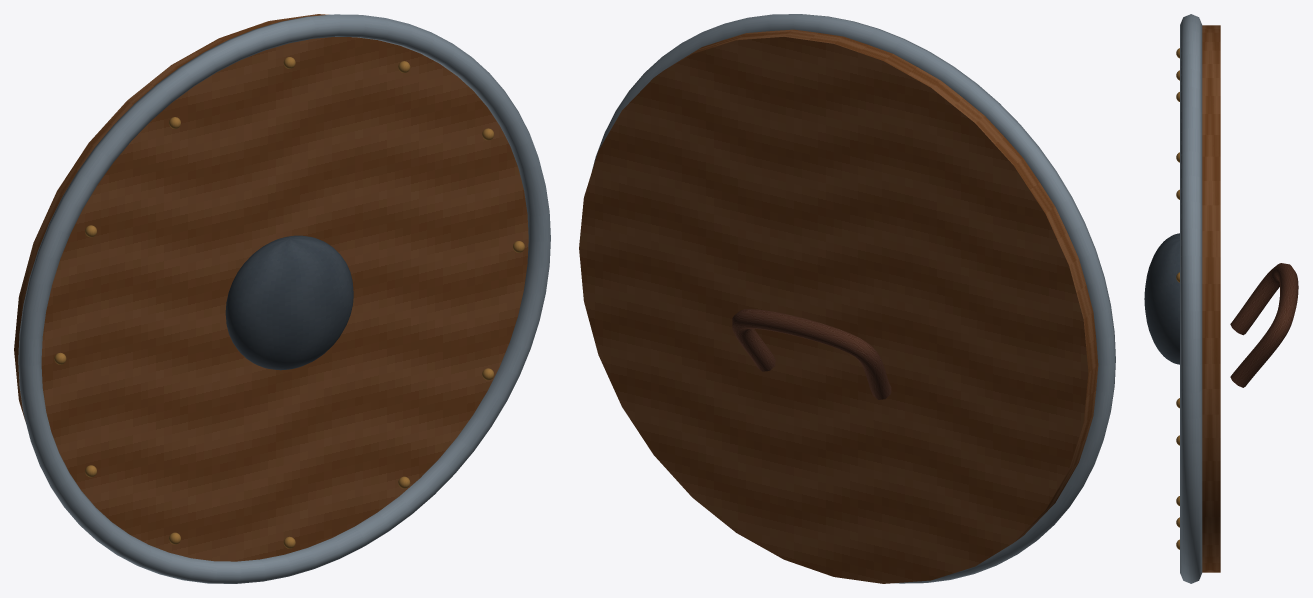
Rendered from round-shield.glb.
3 renders of one model, left to right at view 1: azimuth 30°, elevation 25°; view 2: azimuth 150°, elevation 25°; view 3: azimuth 270°, elevation 25°, orthographic. The views are drawn at different scales.
Parts seen in each view (by area): view 1: wood.0, steel.1, iron.2; view 2: wood.0, steel.1, leather.15; view 3: steel.1, wood.0, leather.15, iron.2.
Boxes of the visible parts, bbox=[...] form: wood.0: bbox=[14, 14, 528, 561]; steel.1: bbox=[18, 14, 550, 583]; iron.2: bbox=[225, 235, 353, 370]; wood.0: bbox=[579, 29, 1098, 583]; steel.1: bbox=[592, 14, 1115, 583]; leather.15: bbox=[732, 309, 891, 399]; steel.1: bbox=[1180, 14, 1202, 583]; wood.0: bbox=[1202, 25, 1220, 572]; leather.15: bbox=[1230, 263, 1298, 387]; iron.2: bbox=[1144, 233, 1179, 364].
Size of the model in its own units: 0.916 by 0.916 by 0.2473.
Materials: 5 (5 with a texture image).
